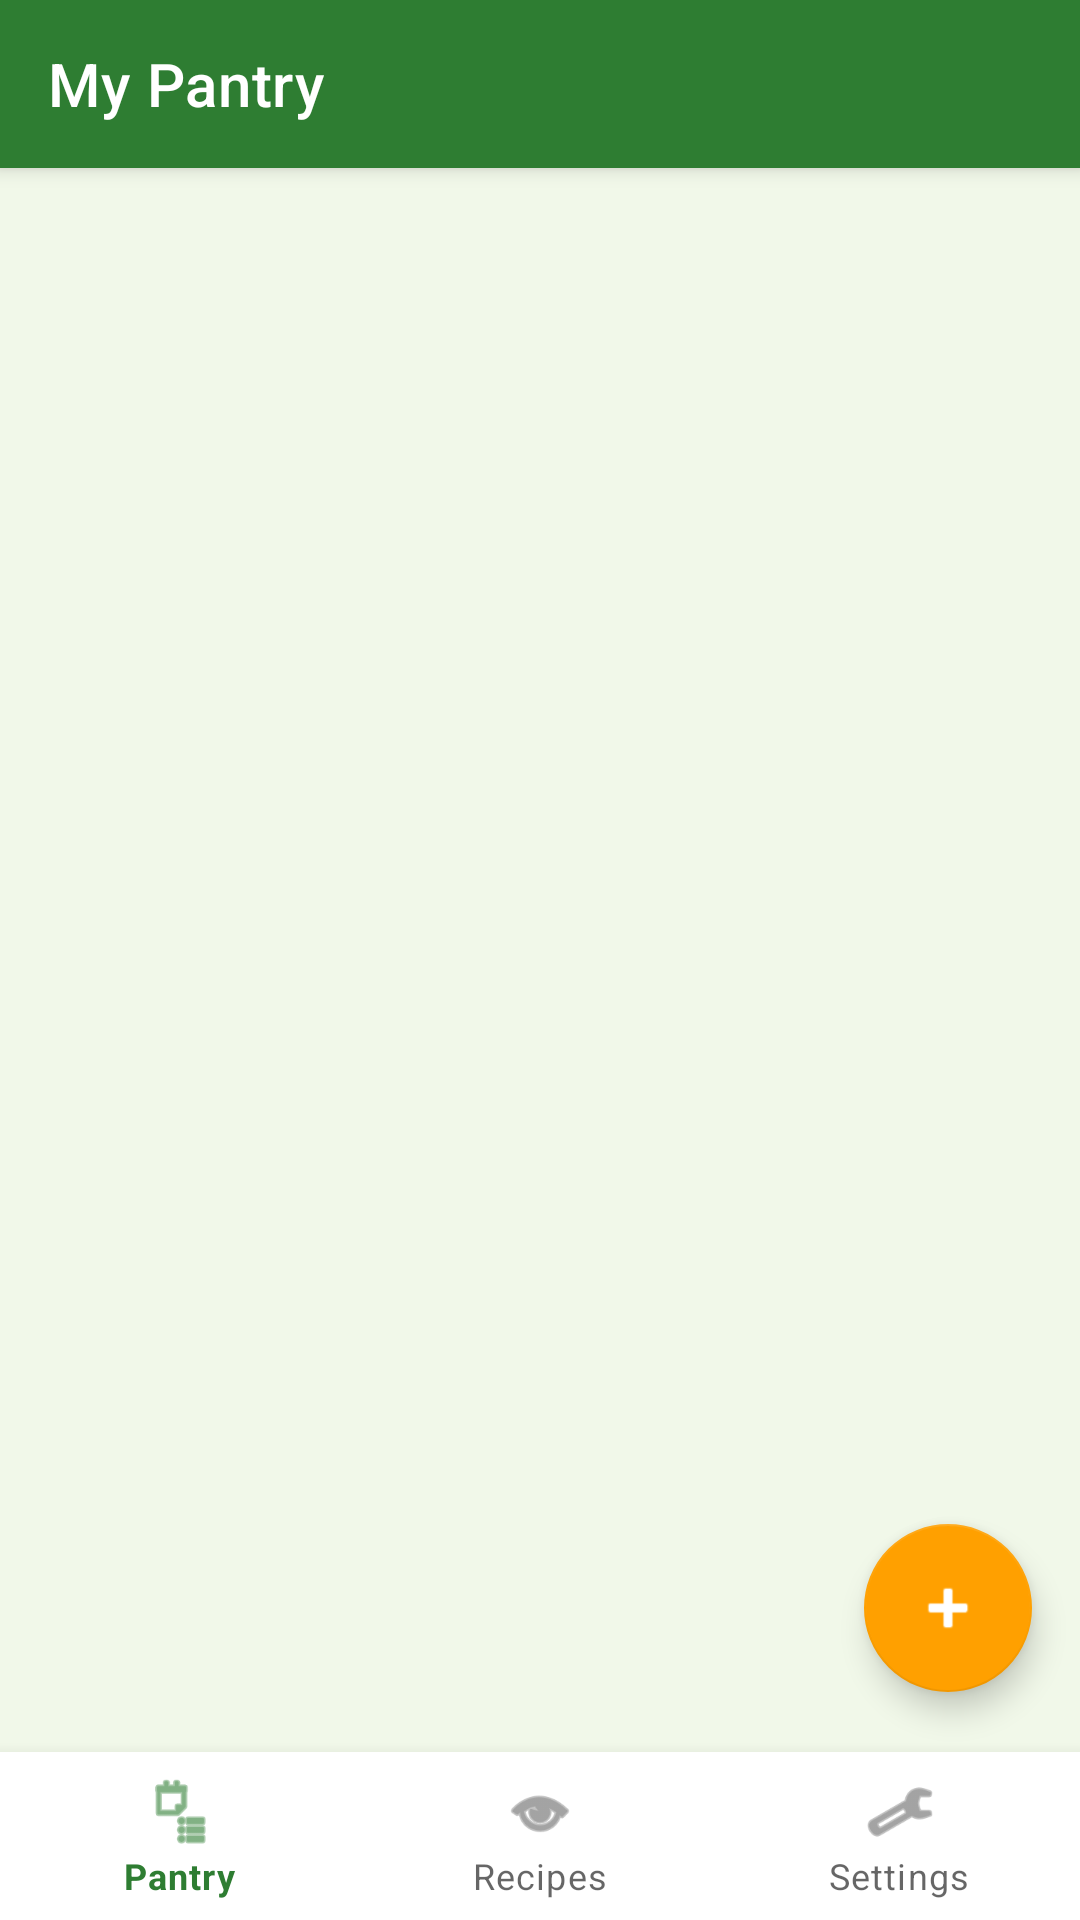

Locate icon controls on the screen. Image size 1080 x 1920, boxes as (x1, y1, x2, y2).
Add Ingredient: (864, 1524, 1032, 1692)
